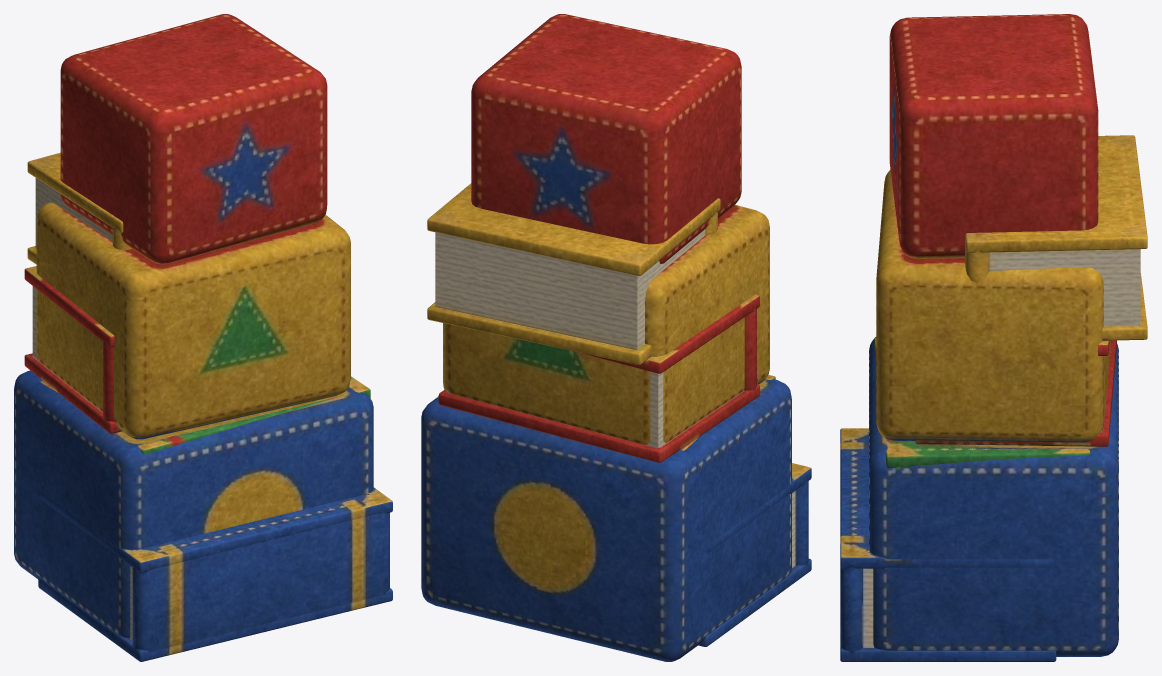
Rendered from props_batch1_medium.glb.
3 views of the same model, side by side, from view 1: azimuth 30°, elevation 25°; view 2: azimuth 150°, elevation 25°; view 3: azimuth 270°, elevation 25° (orthographic). The views are drawn at different scales.
Visible parts, largest first — view 1: BlockStack, BookStack; view 2: BlockStack, BookStack; view 3: BlockStack, BookStack.
Boxes of the visible parts, x1,y1,x2,y2 form: BlockStack: (14, 14, 373, 638); BookStack: (24, 152, 392, 661); BlockStack: (421, 14, 791, 661); BookStack: (427, 183, 811, 646); BlockStack: (869, 14, 1118, 656); BookStack: (840, 135, 1147, 661).
Size of what is drawn, in the model's own units: 5.4 by 10.5 by 5.41.
1 material, 1 textured.
